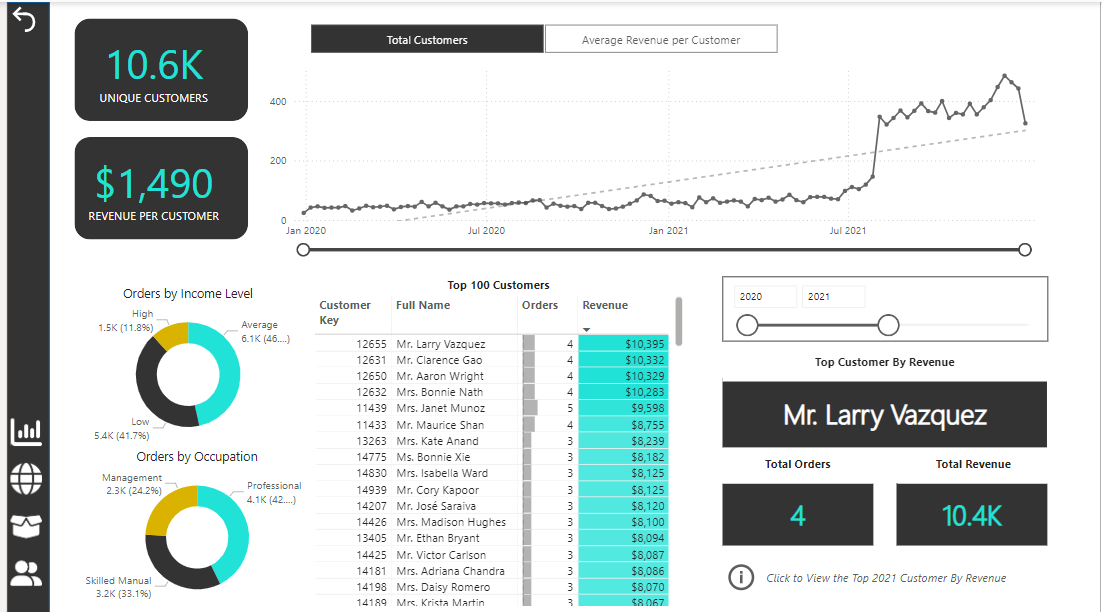

This screenshot's page, from the dashboard's own definition file:
{"tool":"powerbi","page":{"name":"Customer Detail","canvas":[1280,720],"ordinal":3},"visuals":[{"type":"shape","box":[0,0,50,720],"z":0},{"type":"actionButton","box":[0,481.7,90,45],"z":0,"group":"g1"},{"type":"shape","box":[78.3,20,203.3,120],"z":1000},{"type":"actionButton","box":[0,536.7,90,45],"z":1000,"group":"g1"},{"type":"card","fields":{"Values":["Measure Table.Total Customers"]},"box":[78.3,20,185,120],"z":2000},{"type":"actionButton","box":[0,591.7,90,45],"z":2000,"group":"g1"},{"type":"shape","box":[78.3,158.3,203.3,120],"z":3000},{"type":"actionButton","box":[0,646.7,90,45],"z":3000,"group":"g1"},{"type":"card","fields":{"Values":["Measure Table.Average Revenue per Customer"]},"box":[78.3,158.3,185,120],"z":4000},{"type":"lineChart","title":"Weekly Customers","fields":{"Y":["Measure Table.Total Customers"],"Category":["Calendar Lookup.Date Hierarchy.Start of Year","Calendar Lookup.Date Hierarchy.Start of Month","Calendar Lookup.Date Hierarchy.Start of Week","Calendar Lookup.Date Hierarchy.Date"]},"box":[302.9,67.1,917.1,234.3],"z":5000},{"type":"donutChart","title":"Orders by Income Level","fields":{"Category":["Customer Lookup.Income Level"],"Y":["Measure Table.Total Orders"]},"box":[68.3,330,286.7,191.7],"z":6000},{"type":"donutChart","title":"Orders by Occupation","fields":{"Y":["Measure Table.Total Orders"],"Category":["Customer Lookup.Occupation"]},"box":[78.3,521.7,286.7,190],"z":7000},{"type":"tableEx","title":"Top 100 Customers","fields":{"Values":["Customer Lookup.CustomerKey","Customer Lookup.Full Name","Measure Table.Total Orders","Measure Table.Total Revenue"]},"box":[354.3,321.4,441.4,390],"z":8000},{"type":"card","fields":{"Values":["Measure Table.Full Name (Customer Detail)"]},"box":[838.1,440.1,380.2,80.9],"z":9000},{"type":"card","fields":{"Values":["Measure Table.Total Revenue (Customer Detail)"]},"box":[1042,564.7,176.4,72.8],"z":10000},{"type":"card","fields":{"Values":["Measure Table.Total Orders (Customer Detail)"]},"box":[838.1,563.1,176.4,72.8],"z":11000},{"type":"slicer","fields":{"Values":["Calendar Lookup.Year"]},"box":[838.6,321.4,381.4,75.7],"z":12000},{"type":"actionButton","box":[0,0,50,40],"z":13000},{"type":"actionButton","box":[839.7,653.7,380.2,40.4],"z":14000},{"type":"textbox","box":[838.1,401.3,380.2,38.8],"z":15000},{"type":"textbox","box":[838.1,406.1,380.2,38.8],"z":16000},{"type":"textbox","box":[838.1,525.8,176.4,38.8],"z":17000},{"type":"textbox","box":[1043.6,525.8,176.4,38.8],"z":18000},{"type":"group","id":"g1","title":"Navigation Button","box":[0,481.7,90,210],"z":19000},{"type":"slicer","fields":{"Values":["Customer Metric Selection.Customer Metric Selection"]},"box":[330,20,595.7,47.1],"z":20000}]}

Visuals, with their boxes on the page's 1280x720 design canvas (x1, y1, x2, y2). These are canvas units, not pixel positions in the 1102x612 screenshot, which may show the page scaled, cropped or inside an application window:
shape: 0 0 50 720
actionButton: 0 482 90 527
shape: 78 20 282 140
actionButton: 0 537 90 582
card - Measure Table.Total Customers: 78 20 263 140
actionButton: 0 592 90 637
shape: 78 158 282 278
actionButton: 0 647 90 692
card - Measure Table.Average Revenue per Customer: 78 158 263 278
"Weekly Customers" lineChart: 303 67 1220 301
"Orders by Income Level" donutChart: 68 330 355 522
"Orders by Occupation" donutChart: 78 522 365 712
"Top 100 Customers" tableEx: 354 321 796 711
card - Measure Table.Full Name (Customer Detail): 838 440 1218 521
card - Measure Table.Total Revenue (Customer Detail): 1042 565 1218 638
card - Measure Table.Total Orders (Customer Detail): 838 563 1014 636
slicer - Calendar Lookup.Year: 839 321 1220 397
actionButton: 0 0 50 40
actionButton: 840 654 1220 694
textbox: 838 401 1218 440
textbox: 838 406 1218 445
textbox: 838 526 1014 565
textbox: 1044 526 1220 565
"Navigation Button" group: 0 482 90 692
slicer - Customer Metric Selection.Customer Metric Selection: 330 20 926 67
